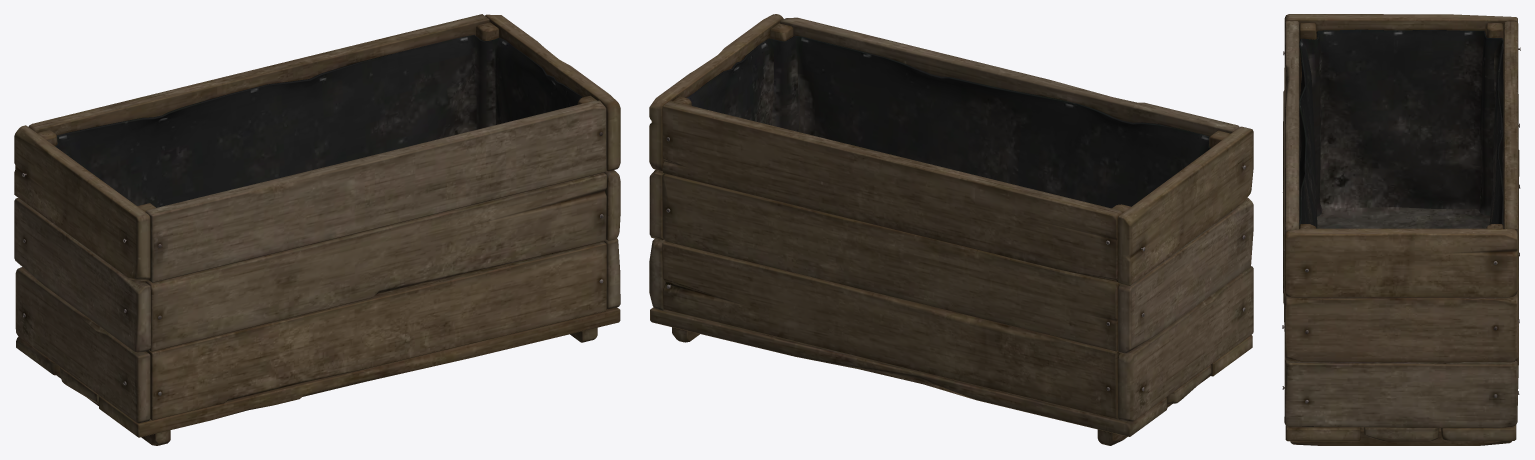
Rendered from planter_box_01.gltf.
3 views of the same model, side by side, from view 1: azimuth 30°, elevation 25°; view 2: azimuth 150°, elevation 25°; view 3: azimuth 270°, elevation 25° (orthographic). The views are drawn at different scales.
Visible parts, largest first — view 1: planter_box_01; view 2: planter_box_01; view 3: planter_box_01.
Boxes of the visible parts, x1=… form: planter_box_01: x1=14, y1=14, x2=620, y2=445; planter_box_01: x1=649, y1=14, x2=1253, y2=445; planter_box_01: x1=1282, y1=14, x2=1520, y2=445.
Size of the model in its own units: 0.9126 by 0.425 by 0.4137.
1 material, 1 textured.
